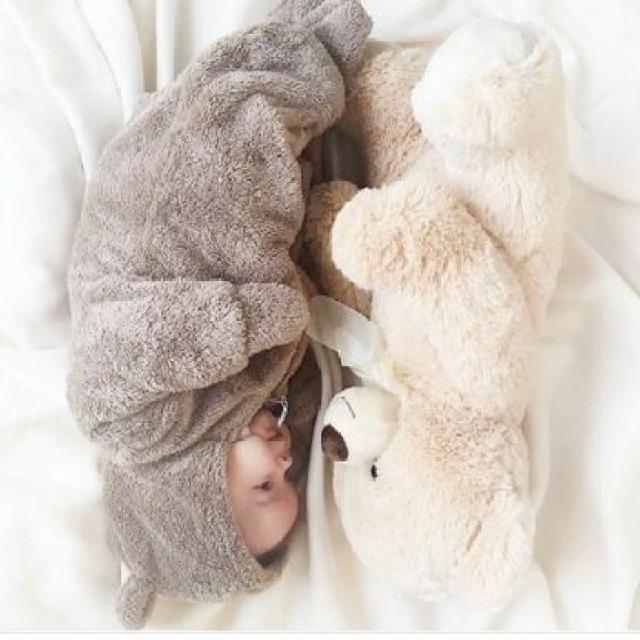child: (65, 2, 316, 630)
